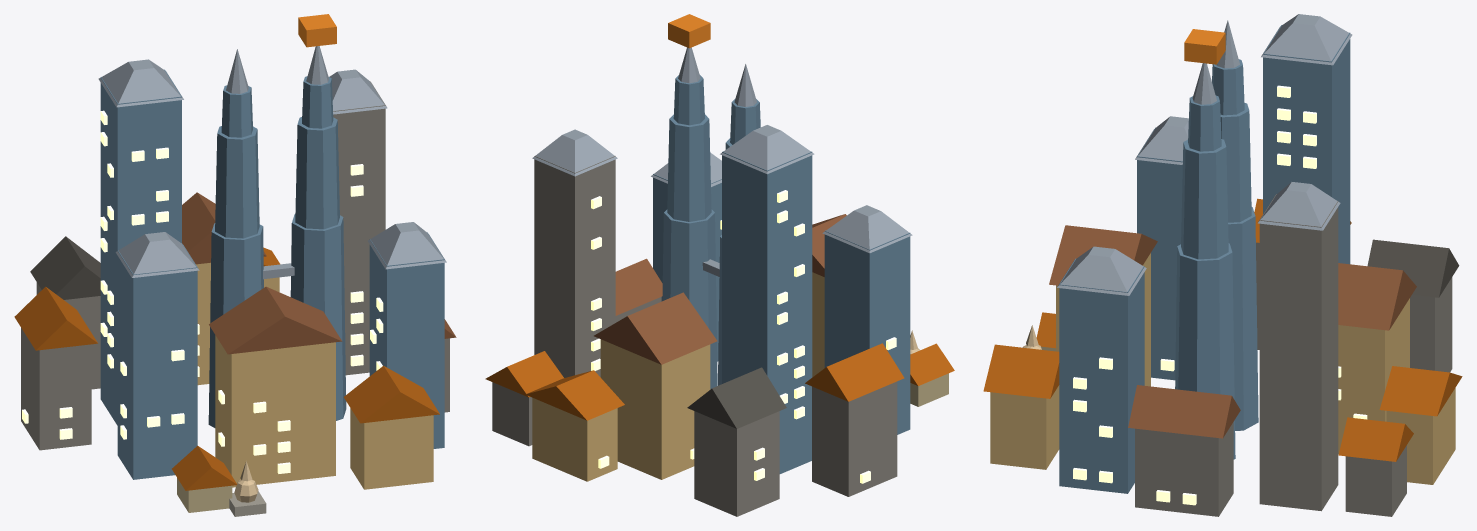
Rendered from overworld-settlement-southeast-asian-city.glb.
3 renders of one model, left to right at view 1: azimuth 30°, elevation 25°; view 2: azimuth 150°, elevation 25°; view 3: azimuth 270°, elevation 25°, orthographic. The views are drawn at different scales.
Visible parts, largest first — view 1: settlement; view 2: settlement; view 3: settlement.
Part boxes in pixels (x1=…): settlement: x1=14, y1=14, x2=456, y2=516; settlement: x1=485, y1=14, x2=954, y2=516; settlement: x1=983, y1=14, x2=1462, y2=516.
Bounding box in the file's own units: 0.484 × 0.4788 × 0.4979.
